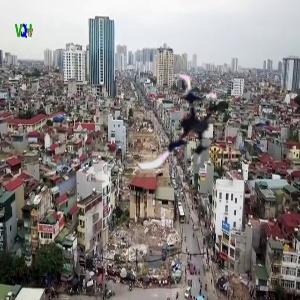drone: (134, 71, 239, 176)
